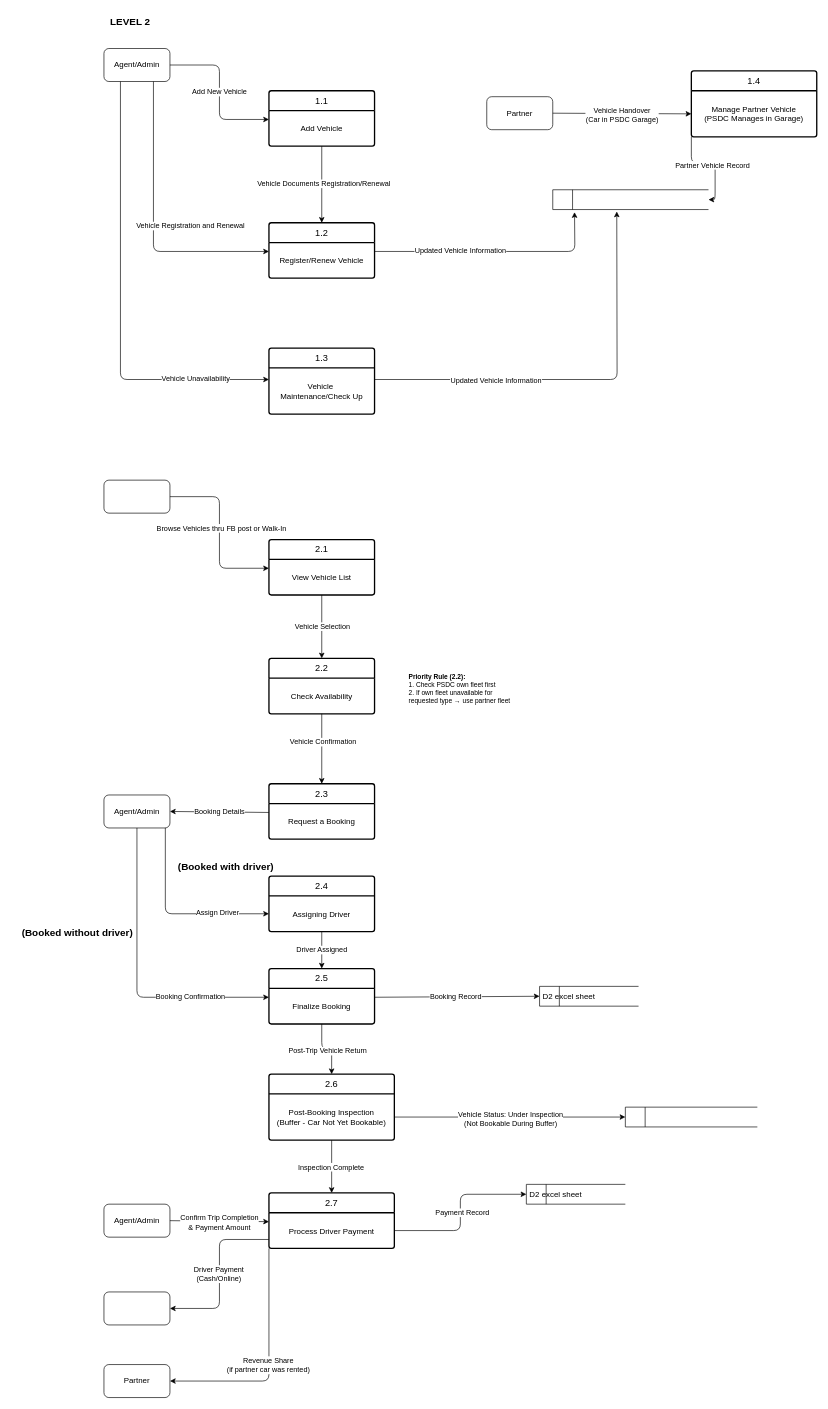
The diagram is 828 pixels wide and 1409 high, and some of its shapes have lost their labels. The centre of each missing label's shape, as x and y in pixels:
"D1 logbook/excel sheet" belongs at point (691, 1116).
"D1 logbook/facebook post/excel sheet" belongs at point (630, 199).
"Driver" belongs at point (136, 1308).
"Renter" belongs at point (136, 496).
